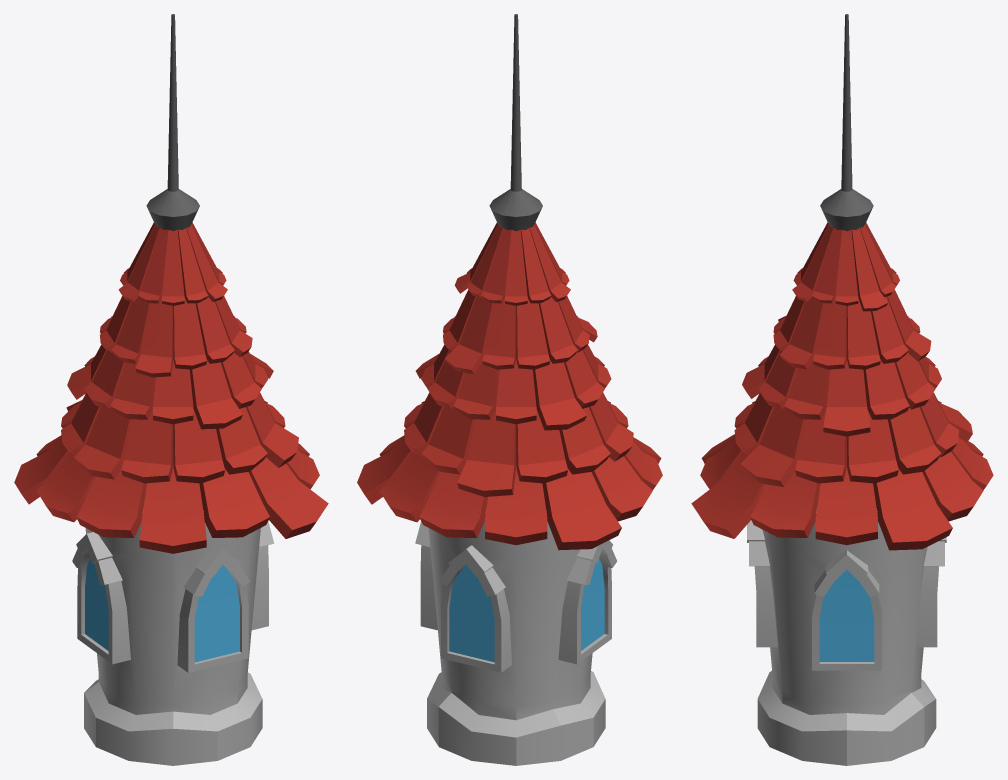
File: player_tower.obj
3 views of the same model, side by side, from view 1: azimuth 30°, elevation 25°; view 2: azimuth 150°, elevation 25°; view 3: azimuth 270°, elevation 25° (orthographic).
Parts seen in each view (by area): view 1: Circle.002; view 2: Circle.002; view 3: Circle.002.
Boxes of the visible parts, box(x1,y1,x2,y2) form: Circle.002: box(14, 14, 328, 765); Circle.002: box(357, 14, 662, 765); Circle.002: box(691, 14, 993, 765).
Bounding box in the file's own units: 4 × 10.58 × 4.06.
